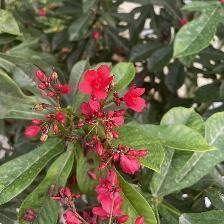jatropha: (80, 63, 114, 101), (91, 191, 127, 221), (121, 84, 148, 115), (119, 154, 146, 179)
